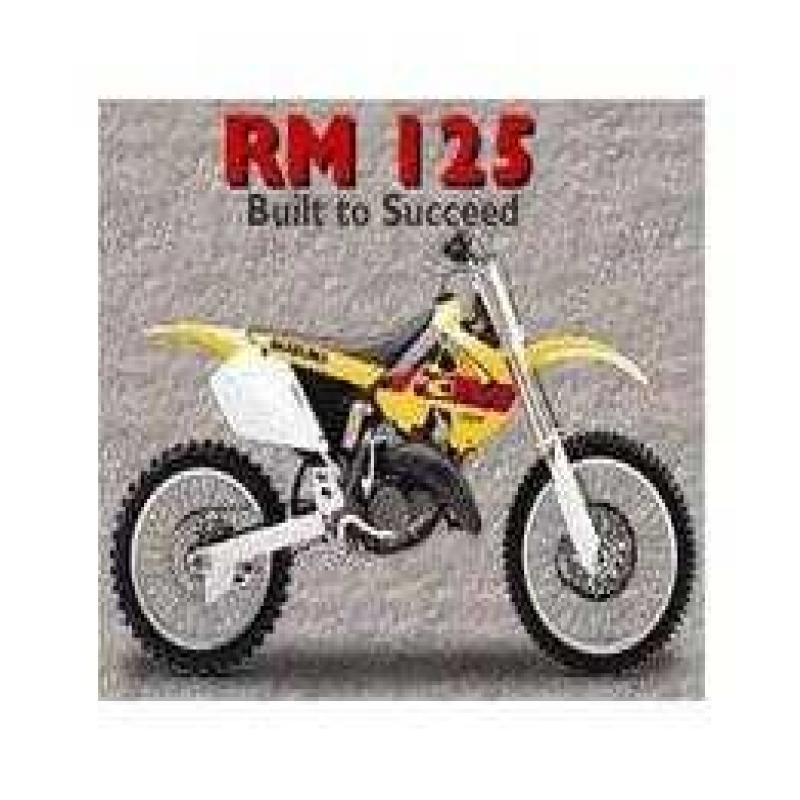bike: (97, 186, 697, 660)
